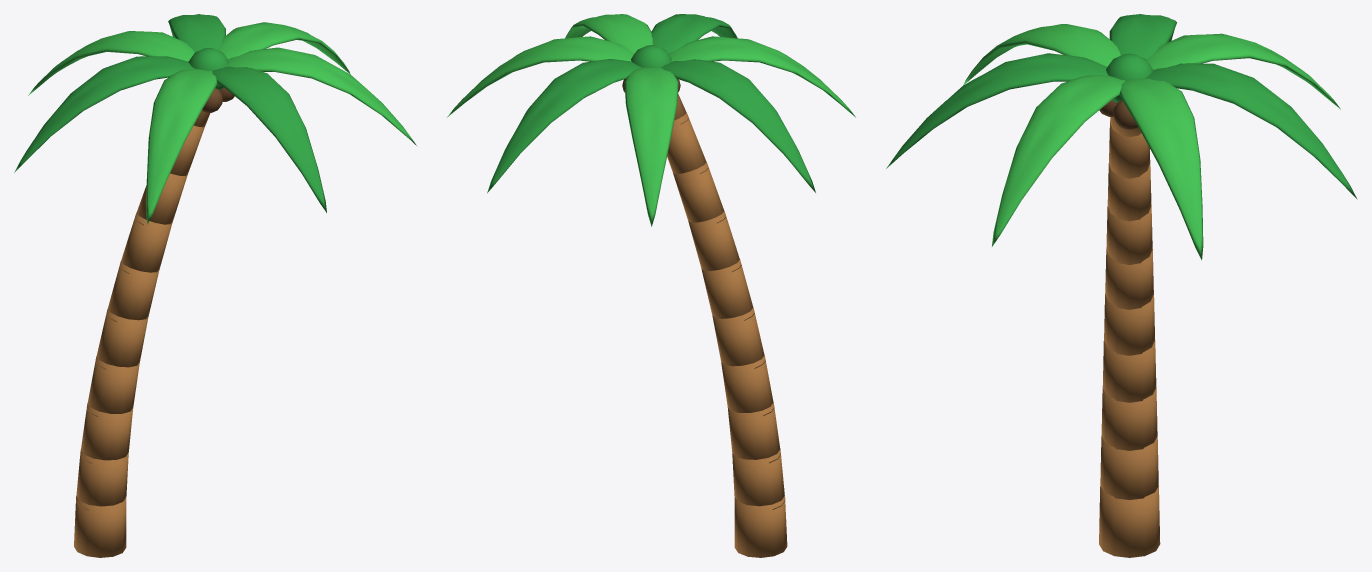
The model's file is palm.glb.
The picture shows the model from 3 angles, left to right: view 1: azimuth 30°, elevation 25°; view 2: azimuth 150°, elevation 25°; view 3: azimuth 270°, elevation 25°; orthographic projection. The views are drawn at different scales.
Parts seen in each view (by area): view 1: Palm; view 2: Palm; view 3: Palm.
Part boxes in pixels (x1,y1,x2,y2): Palm: [14, 14, 416, 557]; Palm: [447, 14, 855, 557]; Palm: [886, 14, 1357, 557].
Size of the model in its own units: 4.67 by 5.96 by 4.63.
